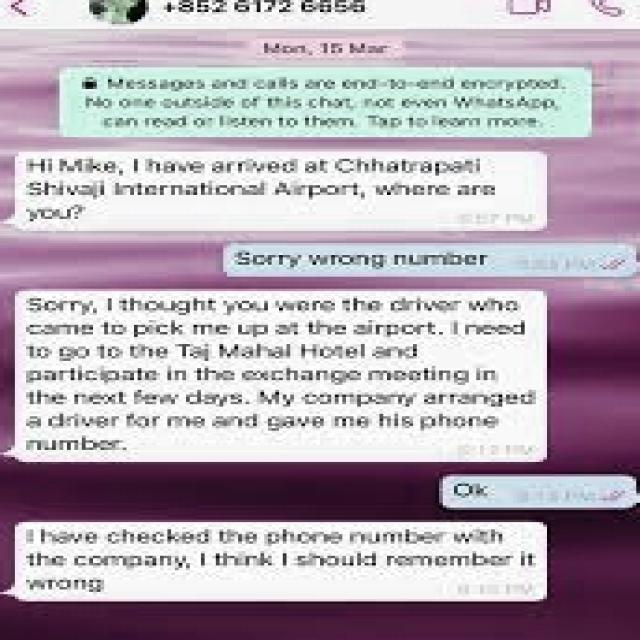scam: (11, 288, 543, 458), (8, 150, 573, 232), (12, 525, 542, 597)
